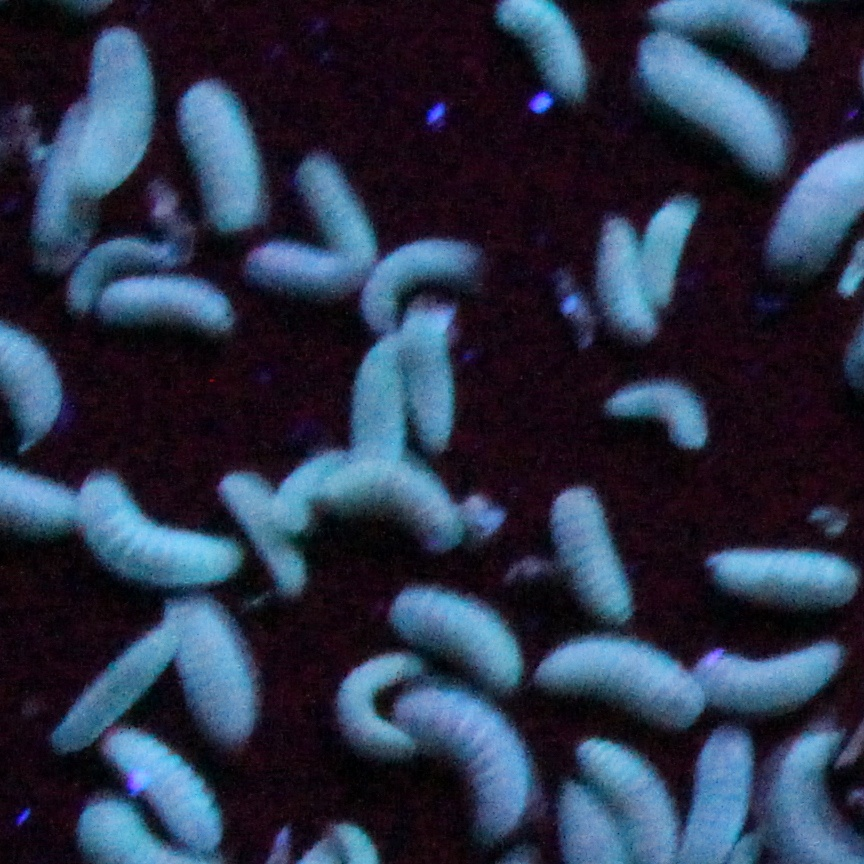larve: (84, 458, 224, 593), (290, 459, 464, 561), (410, 685, 535, 823), (646, 56, 780, 179), (528, 644, 702, 733), (167, 81, 264, 237), (542, 485, 636, 638), (168, 609, 267, 749), (73, 27, 155, 192), (703, 629, 855, 715), (384, 574, 520, 663), (596, 364, 715, 459), (574, 218, 652, 346), (325, 658, 404, 760), (645, 4, 802, 55), (306, 127, 362, 264), (411, 308, 463, 451), (232, 473, 285, 608), (351, 332, 407, 458), (71, 654, 156, 726), (392, 231, 478, 301), (110, 288, 229, 334), (660, 202, 711, 306), (235, 267, 355, 307), (135, 745, 199, 807)
